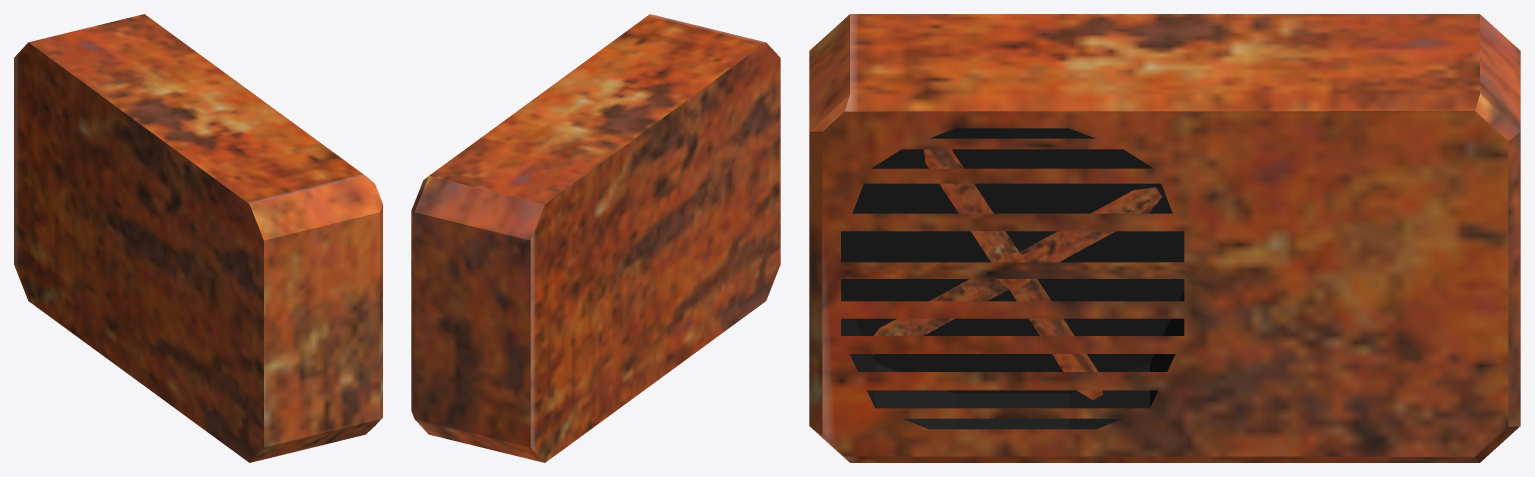
The model's file is Ventilator.fbx.
3 renders of one model, left to right at view 1: azimuth 30°, elevation 25°; view 2: azimuth 150°, elevation 25°; view 3: azimuth 270°, elevation 25°, orthographic. The views are drawn at different scales.
Parts seen in each view (by area): view 1: Cube; view 2: Cube; view 3: Cube, Cube.001, Cylinder.
Boxes of the visible parts, left/top/right/bottom form: Cube: left=14, top=14, right=382, bottom=462; Cube: left=411, top=14, right=780, bottom=462; Cube: left=809, top=14, right=1520, bottom=462; Cube.001: left=841, top=128, right=1184, bottom=429; Cylinder: left=872, top=138, right=1162, bottom=399.
Size of the model in its own units: 50 by 100 by 175.
2 materials, 1 textured.
